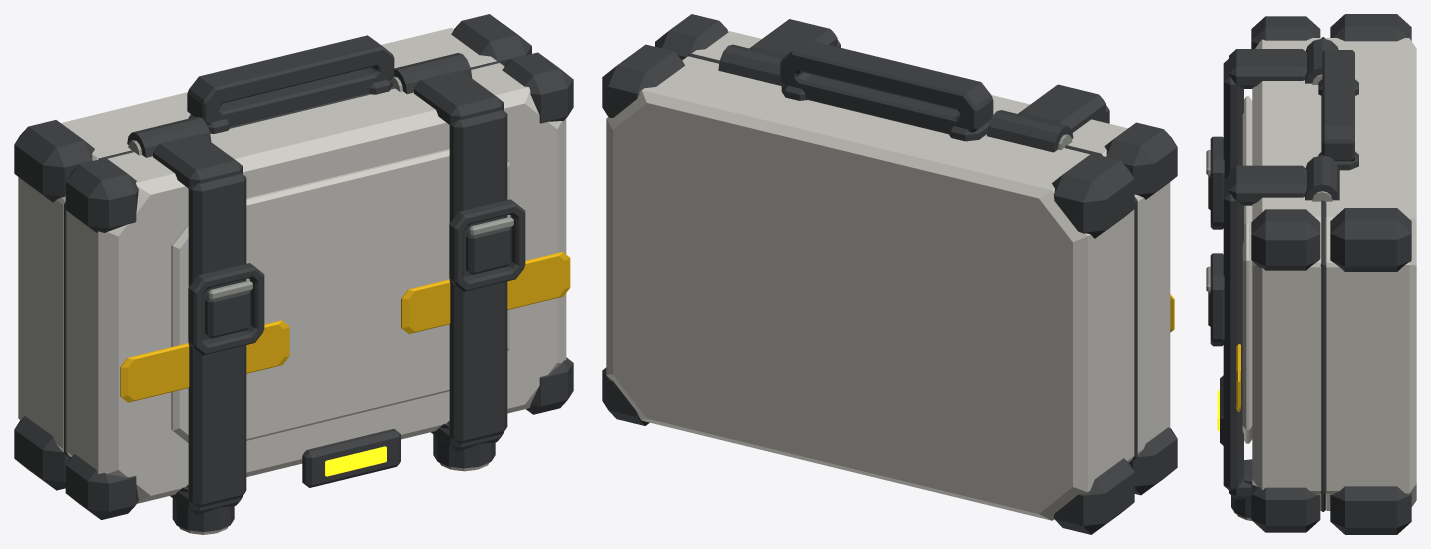
The model's file is 05_ammo_box_closed.fbx.
3 views of the same model, side by side, from view 1: azimuth 30°, elevation 25°; view 2: azimuth 150°, elevation 25°; view 3: azimuth 270°, elevation 25° (orthographic). The views are drawn at different scales.
Visible parts, largest first — view 1: 05_ammo_box_closed; view 2: 05_ammo_box_closed; view 3: 05_ammo_box_closed.
Boxes of the visible parts, left/top/right/bottom form: 05_ammo_box_closed: left=14, top=14, right=573, bottom=534; 05_ammo_box_closed: left=602, top=14, right=1177, bottom=534; 05_ammo_box_closed: left=1206, top=14, right=1416, bottom=534.
Bounding box in the file's own units: 21.7 × 17 × 8.83.
